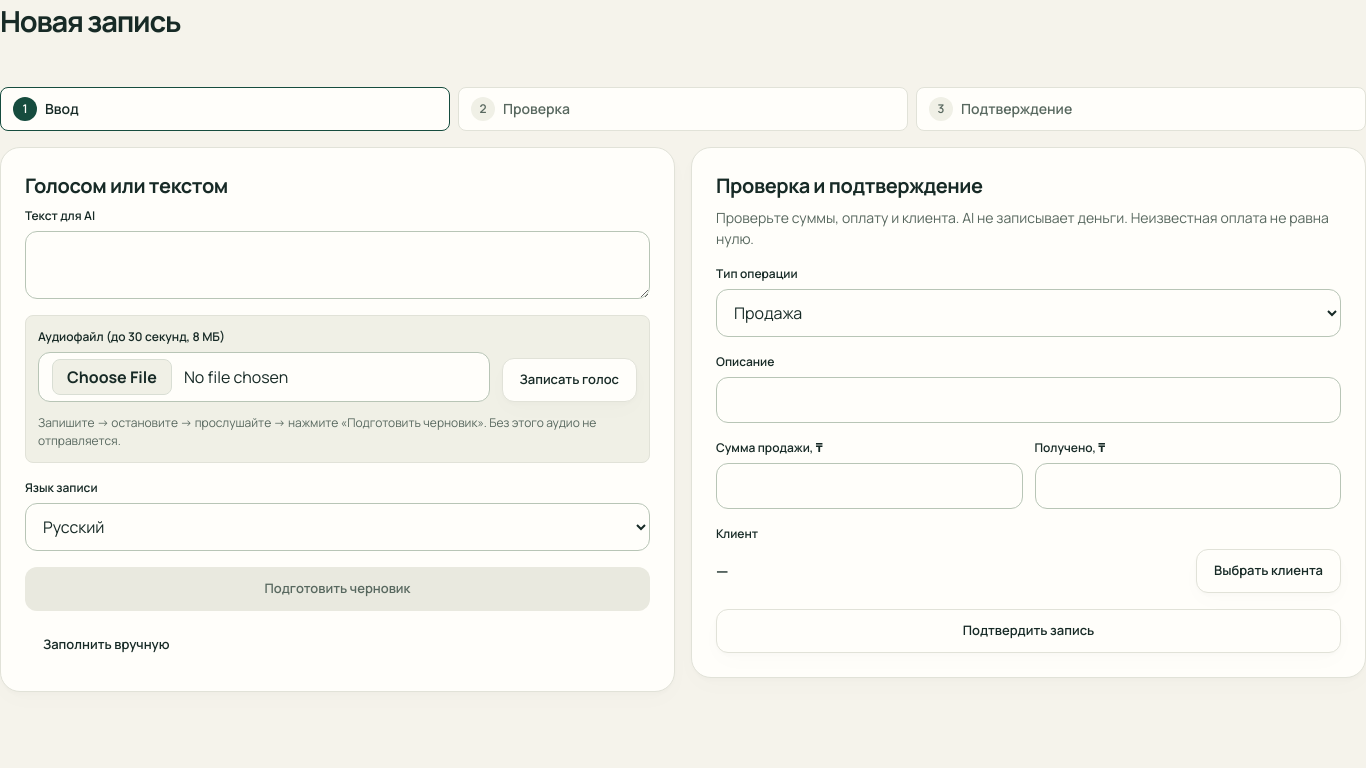
archive AI flow adapted to the shared contract › AI error 429 preserves input, offers manual/retry and never invents an answer
The width and height of the screenshot is (1366, 768).
Type "Продал на 3000, получил 1000" into the text box labelled "Текст для AI" at (338, 265), box [25,231,650,299]
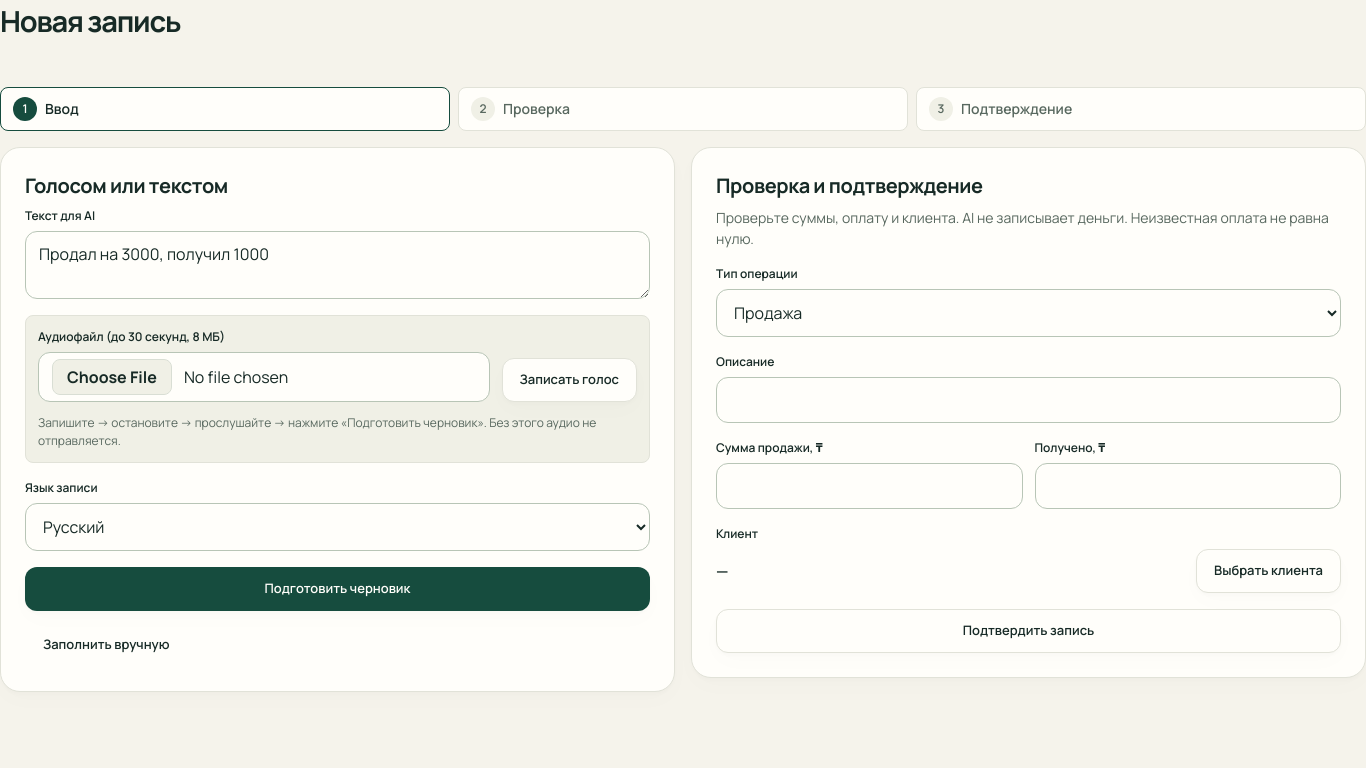
Click the button "Подготовить черновик" at (338, 589), box [25,567,650,611]
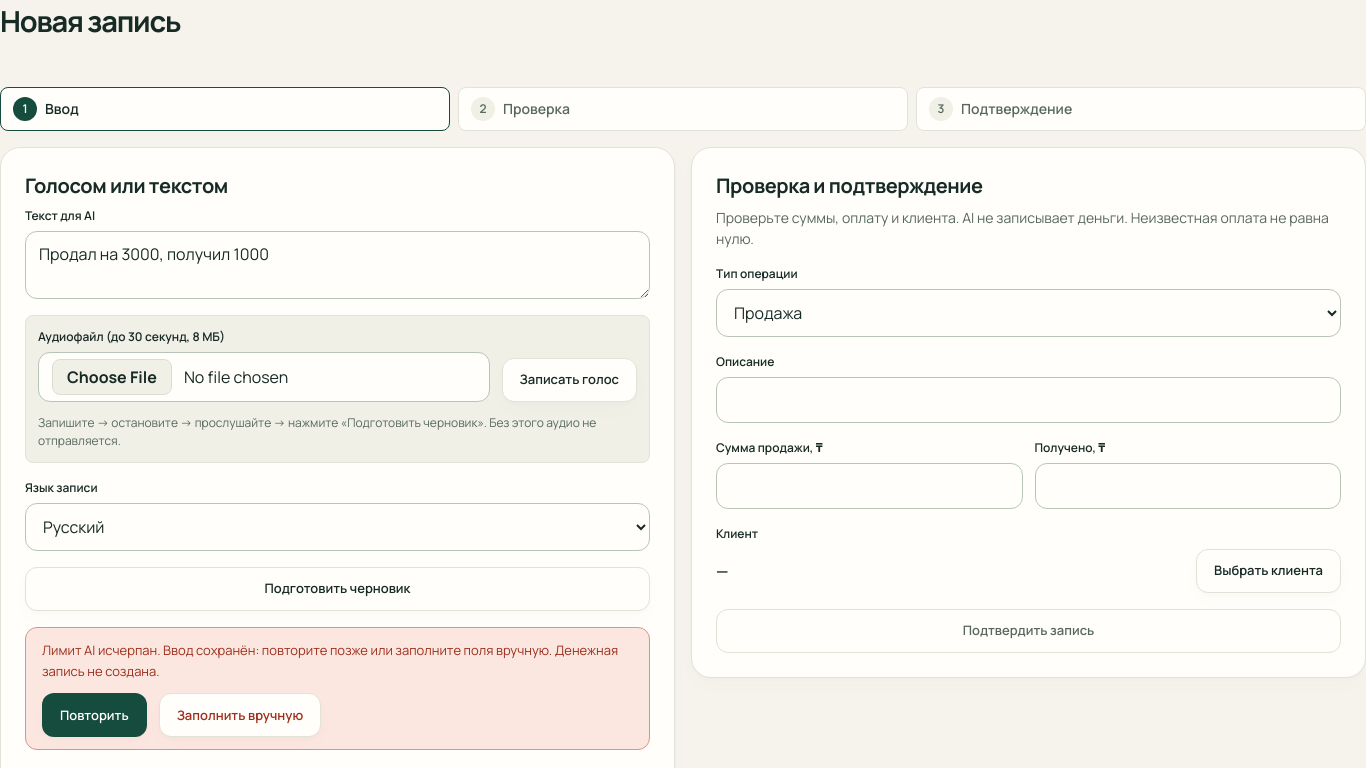
expect the field labelled "Сумма продажи, ₸" is empty: met, box [716,463,1022,509]
expect the message shows "Лимит AI": met, box [42,641,618,680]
Click the button "Повторить" at (94, 715), box [42,693,147,737]
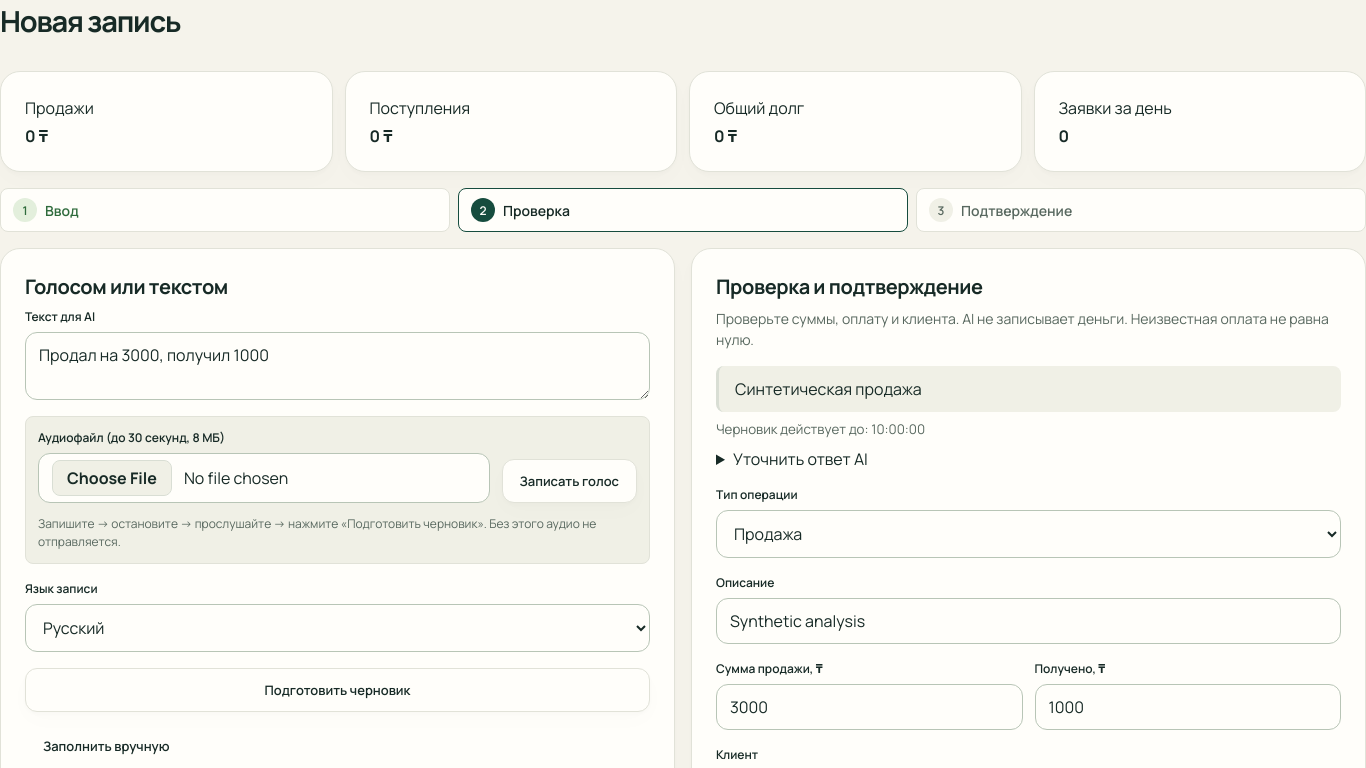
expect the field labelled "Сумма продажи, ₸" holds "3000": met, box [716,684,1022,730]
